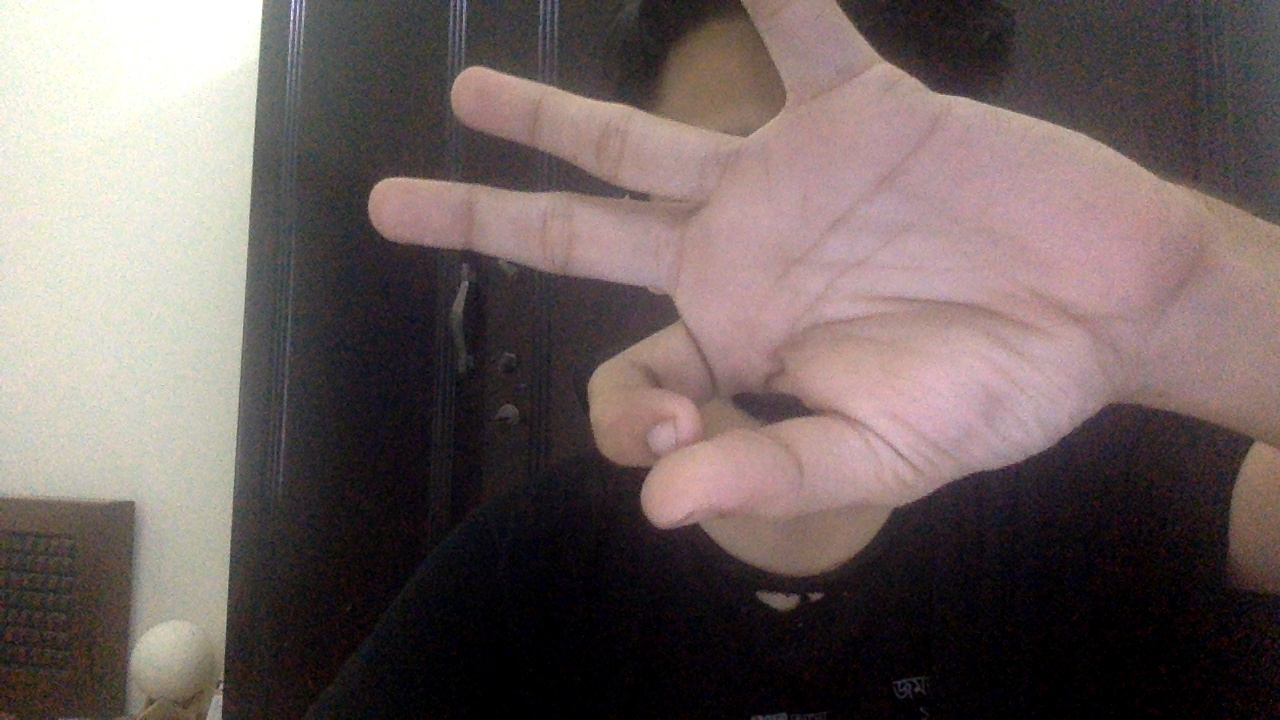perfect: (366, 1, 1198, 531)
